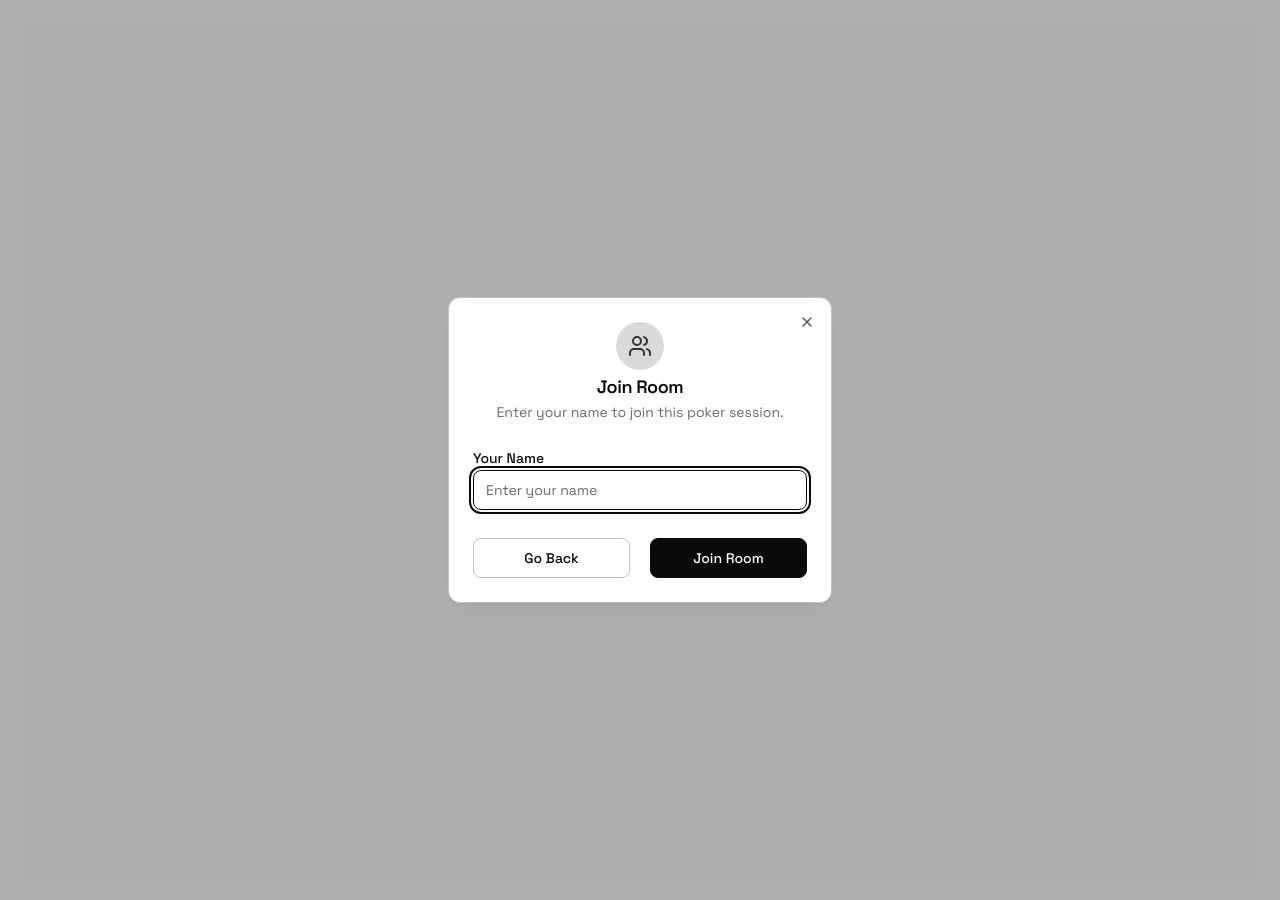
JoinRoomDialog › should show generic error for non-Error rejections
This screenshot has width=1280, height=900.
Type "Alice" into the field labelled "Your Name" at (640, 490), box [473,470,807,510]
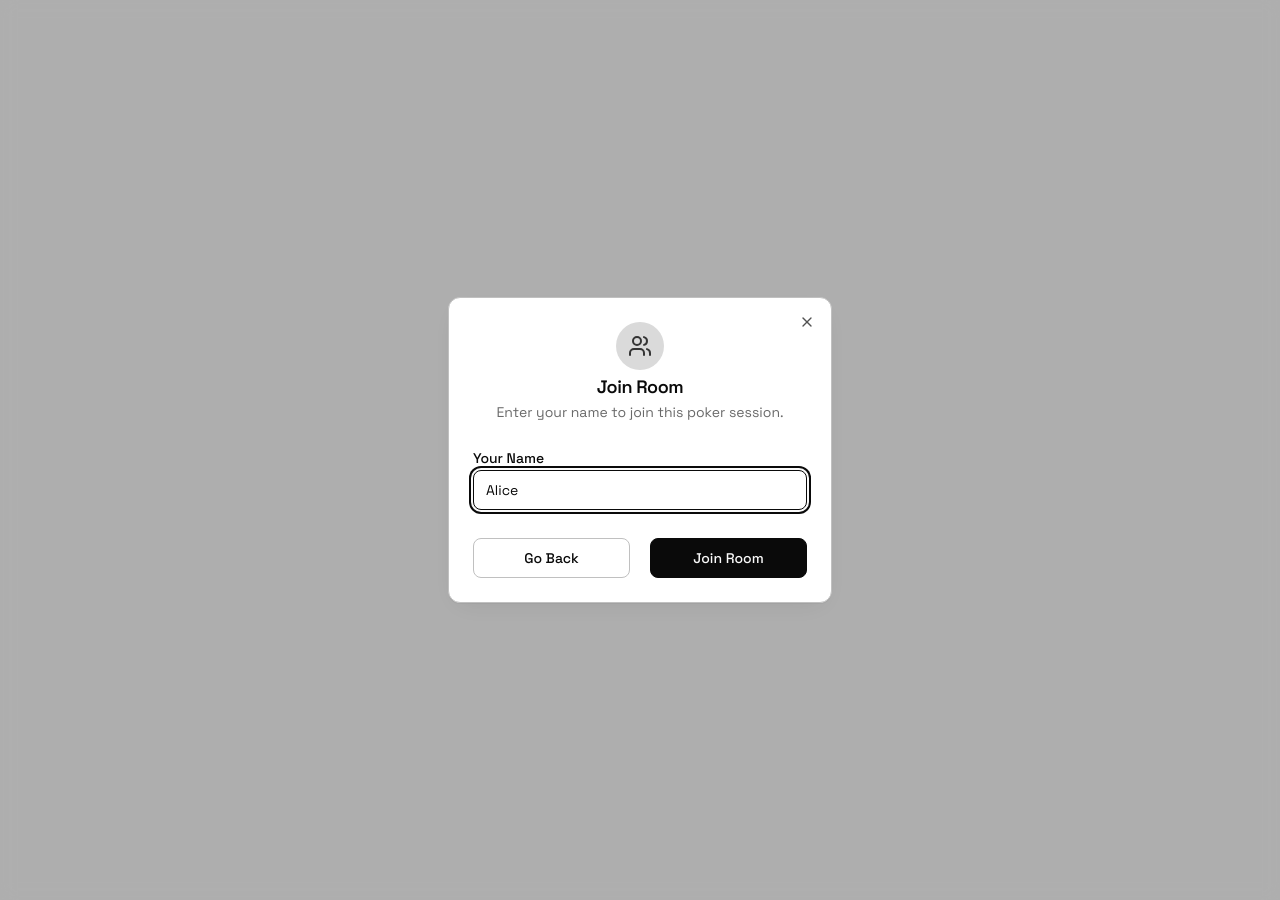
Click the button "Join Room" at (728, 558), box [650,538,807,578]
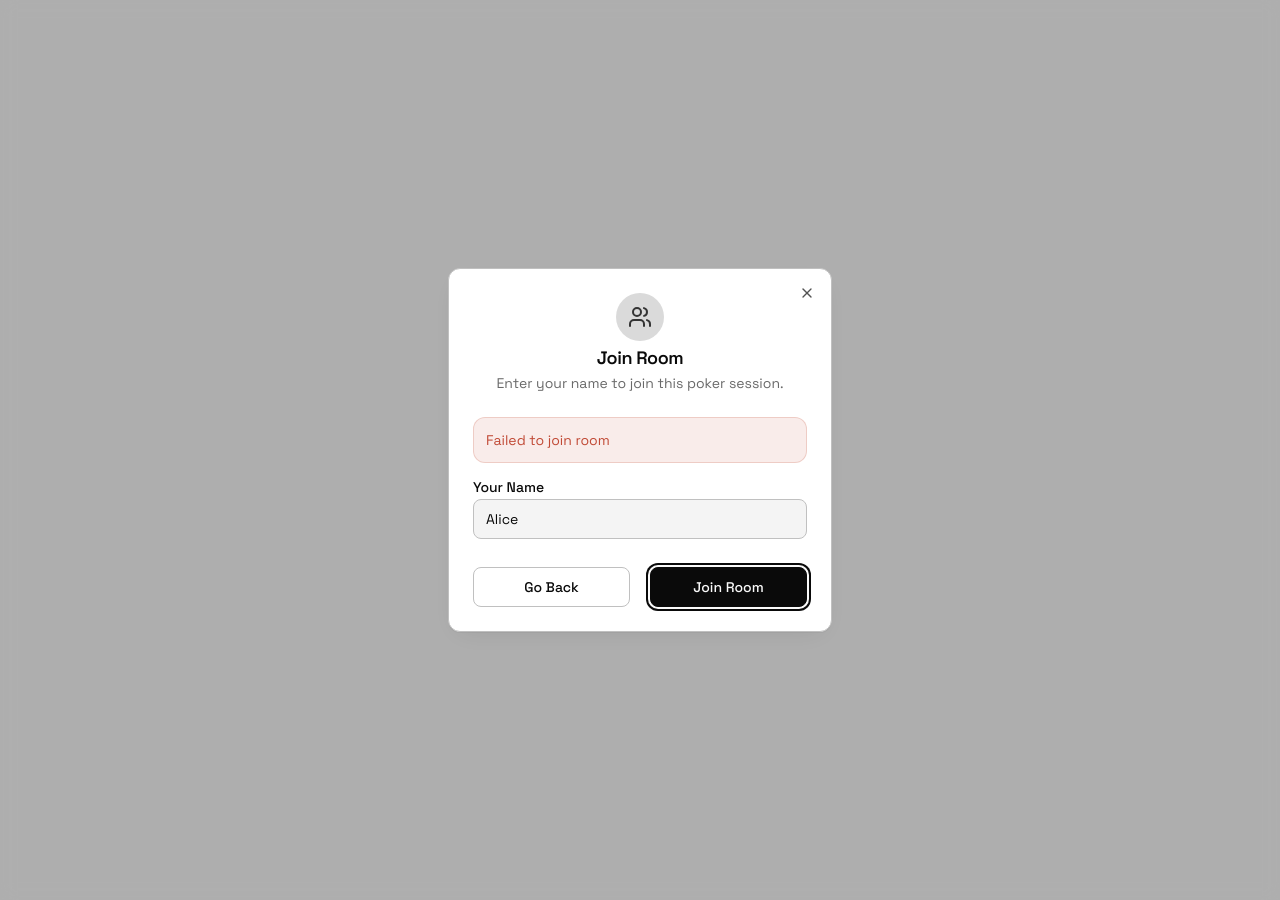
Check: the text "Failed to join room" is shown, box [473,417,807,463]
